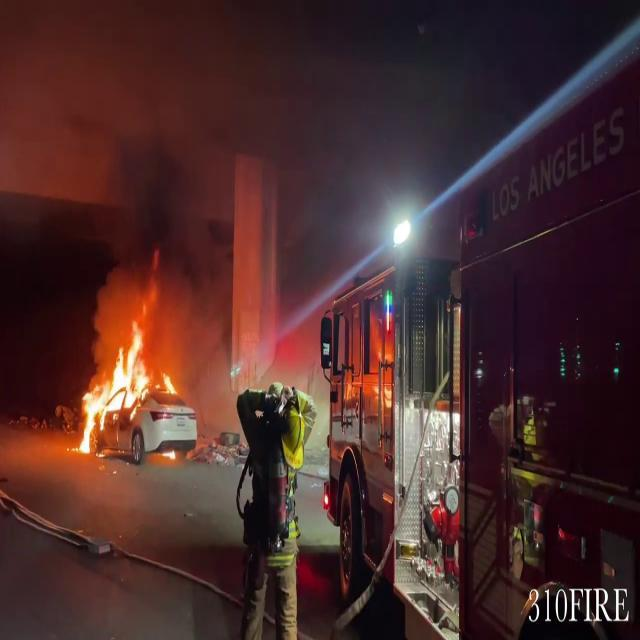Fire: (73, 317, 161, 453)
Smoke: (92, 136, 218, 372)
